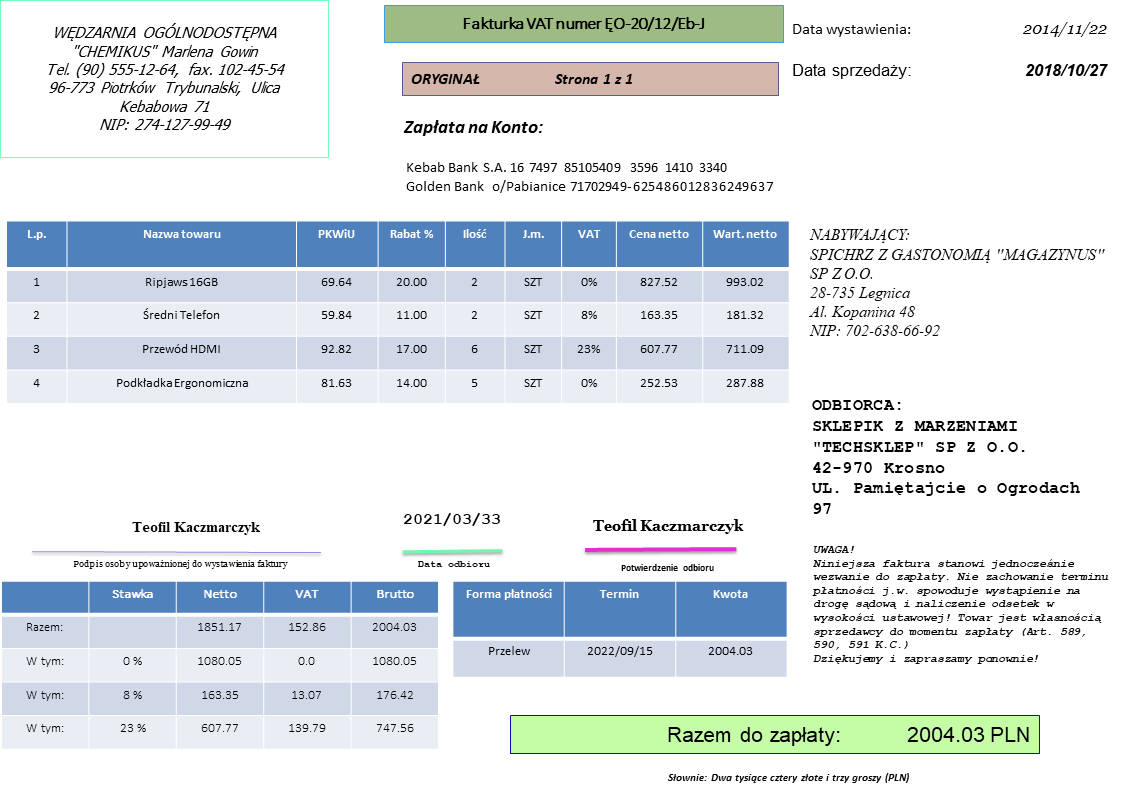Table: (4, 220, 790, 407), (1, 582, 438, 751), (452, 580, 787, 678)
TextBox: (810, 542, 1112, 669), (807, 222, 1108, 341), (808, 396, 1083, 517), (42, 20, 289, 134), (403, 157, 777, 197), (663, 722, 1033, 748), (460, 13, 708, 35), (408, 69, 636, 88), (665, 769, 911, 786), (588, 515, 746, 536), (71, 557, 289, 572), (401, 117, 545, 138), (129, 517, 262, 537), (790, 61, 912, 80), (790, 21, 913, 38), (400, 510, 502, 529), (1023, 60, 1109, 80), (1019, 21, 1108, 38), (617, 560, 717, 574), (413, 558, 492, 571)
